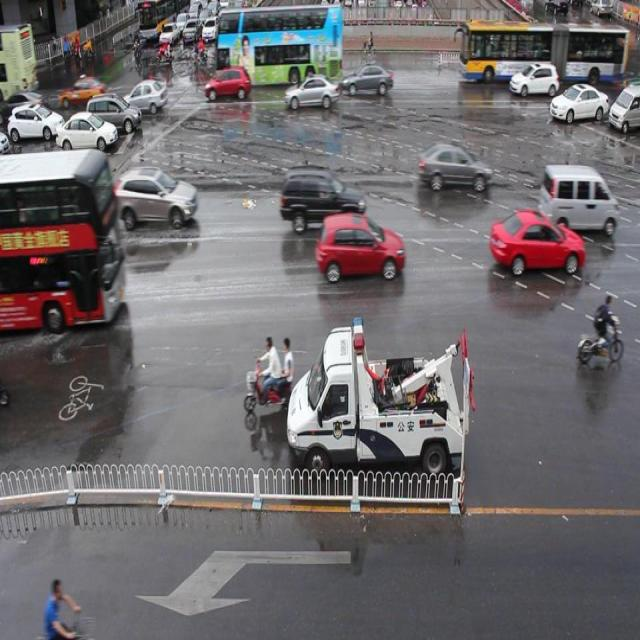car: (314, 210, 404, 282), (488, 209, 582, 277), (279, 163, 366, 233), (112, 168, 197, 230), (416, 142, 491, 194), (546, 81, 607, 126), (508, 59, 559, 100), (284, 75, 340, 111), (203, 64, 250, 104), (341, 64, 393, 95)
truck: (538, 163, 617, 234)
van: (1, 152, 125, 324), (458, 21, 627, 86), (215, 8, 344, 87)
